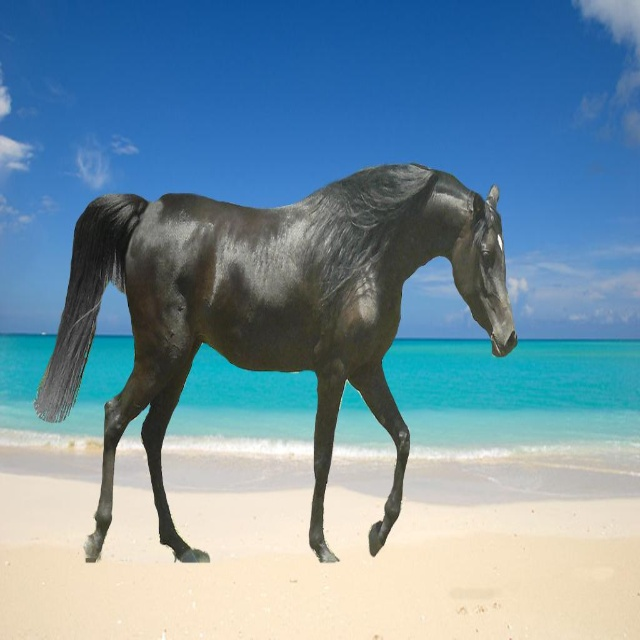Horse: (34, 162, 518, 563)
